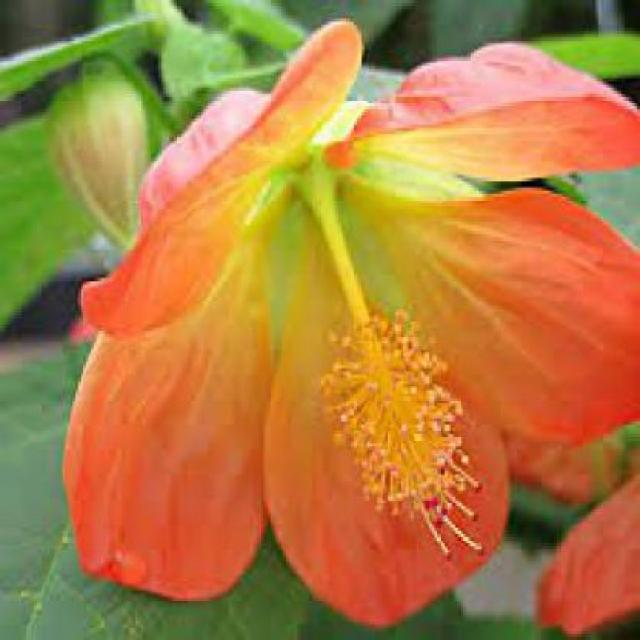Flower: (59, 19, 638, 630), (325, 309, 487, 563)
